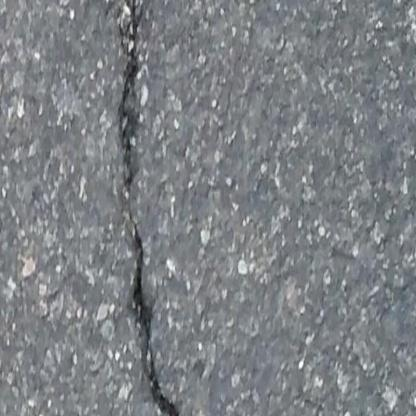Cracks: (116, 0, 192, 416)
